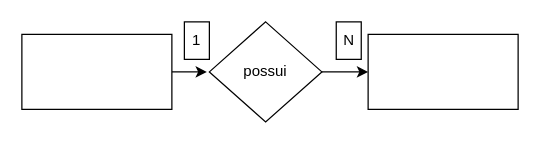
Some shapes in this 540 by 144 pixel diagram are drawn without their labels. Each missing label, with the box of its shape:
Filme: (21, 33, 172, 109)
Genero: (367, 33, 518, 109)
